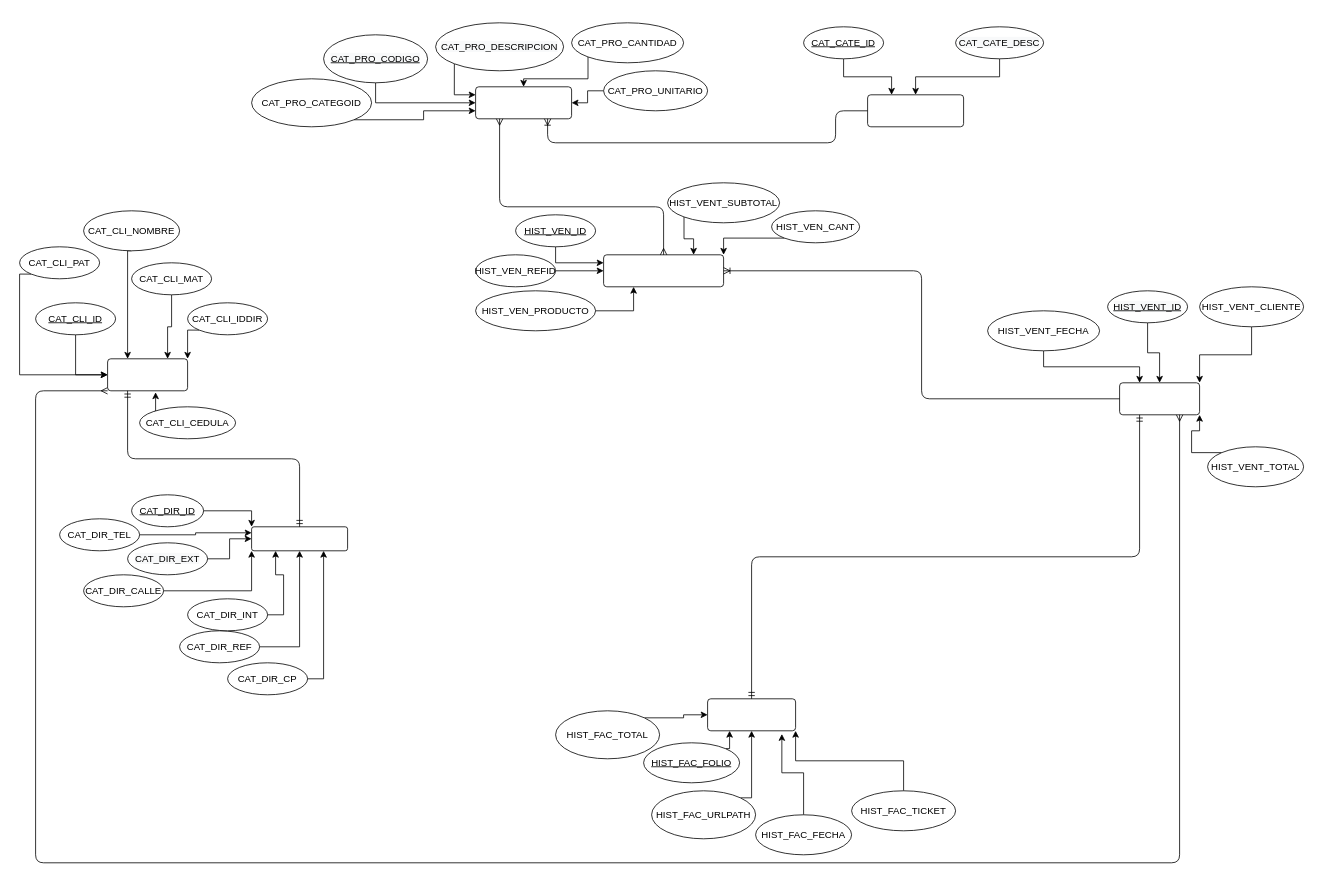
Image size: 1318x884. Some labels were removed from this diagram. The box of each missing label's shape, as (x1, y1, x2, y2) in pixels:
CAT_CATEGORIAS: (867, 94, 964, 127)
CAT_CLIENTES: (107, 358, 188, 391)
CAT_DIRECCIONES: (251, 526, 348, 551)
CAT_PRODUCTOS: (475, 86, 572, 119)
HIST_FACTURAS: (707, 698, 796, 731)
HIST_VENTA_DETALLE: (603, 254, 724, 287)
HIST_VENTAS: (1119, 382, 1200, 415)
